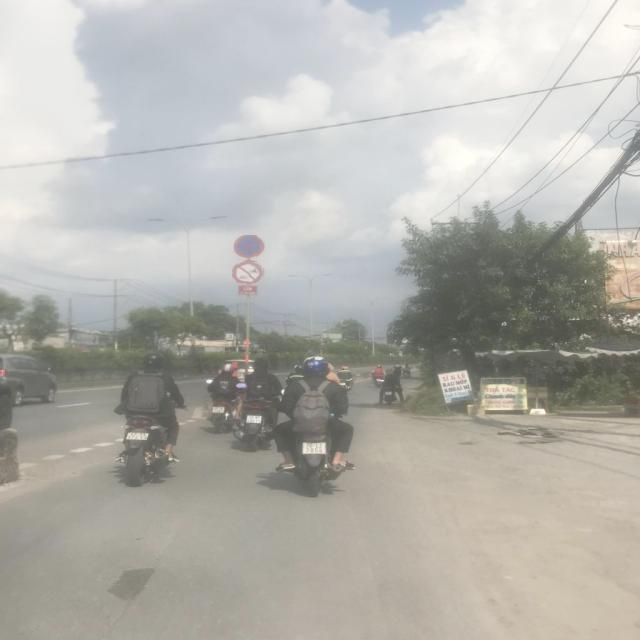cam_dung_xe_va_do_xe: (234, 236, 264, 260)
cam_xe_2_banh_va_xe_3_banh_co_dong_co: (232, 260, 264, 283)
